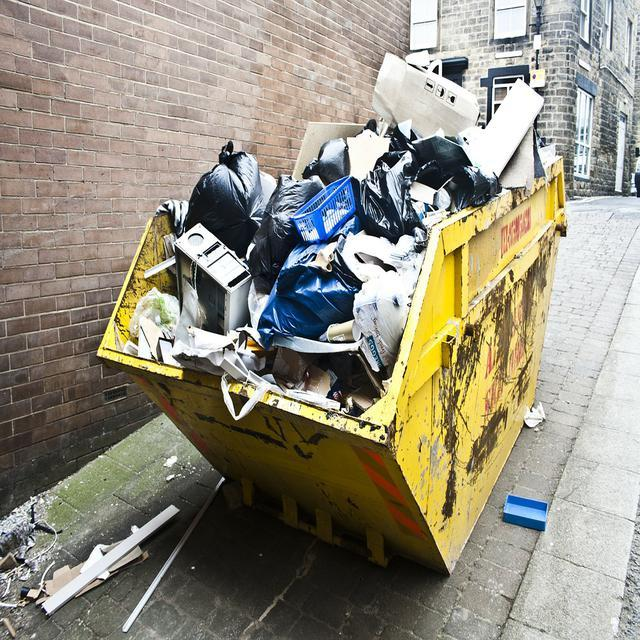garbage: (117, 88, 452, 414), (371, 56, 549, 187), (0, 496, 188, 618), (490, 484, 554, 540)
